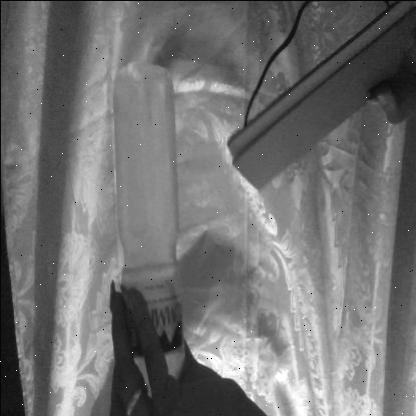Plastic Bottle: (103, 65, 185, 403)
